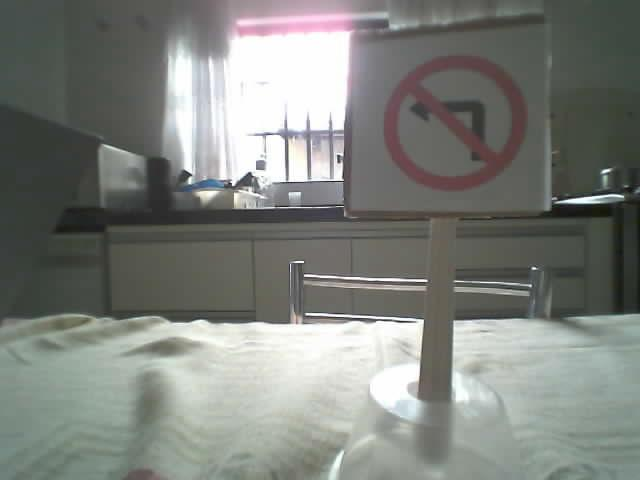R-4a_proibido-esquerda: (381, 54, 525, 191)
